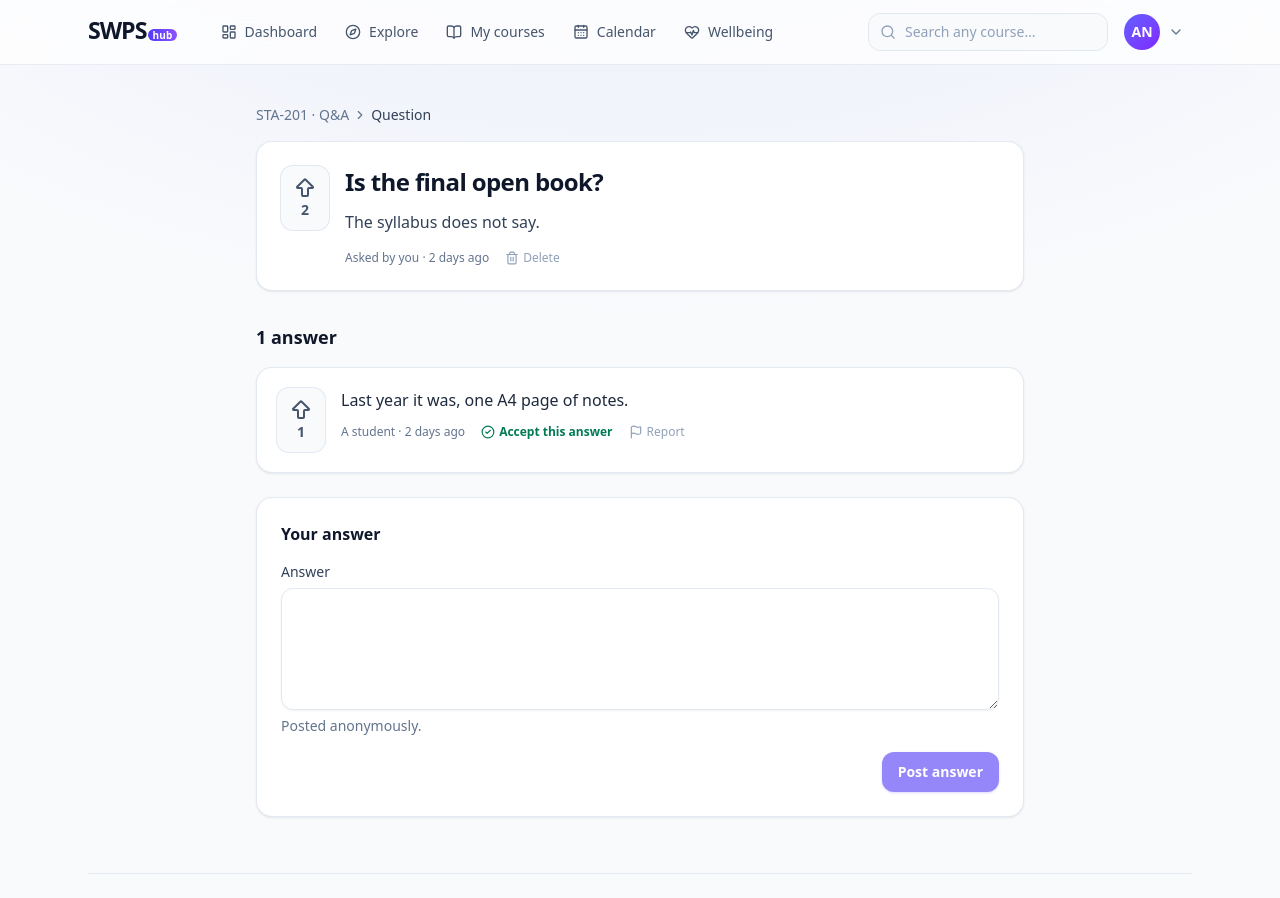
Test: Course Q&A › shows answers without names and lets the asker accept one
Expected: the text "A student · 2 days ago" is shown, [341,424,465,440]
Click the button "Accept this answer" at {"x": 547, "y": 432}, box [481,424,612,440]
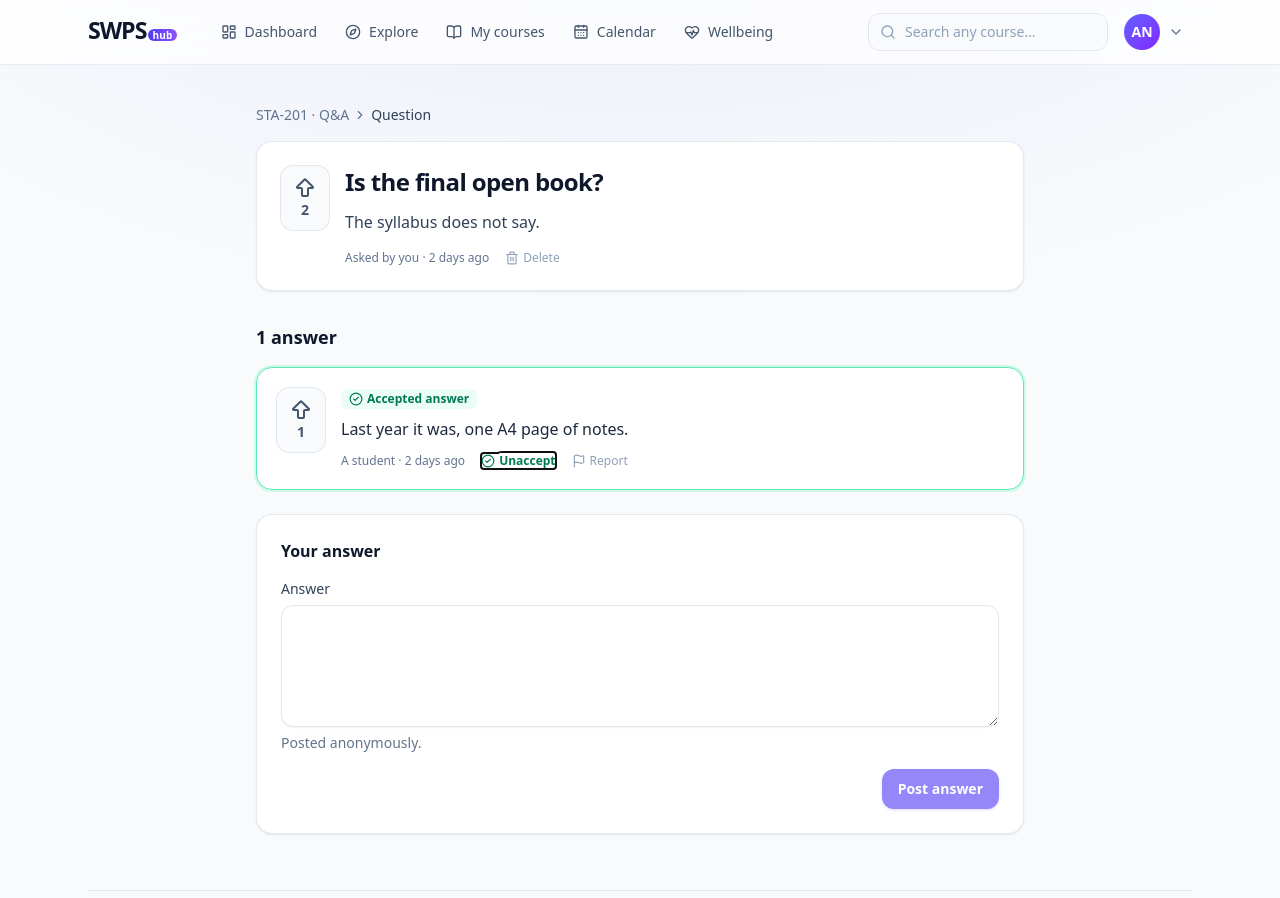
Now the text "Accepted answer" is shown, box [341,389,477,409]
